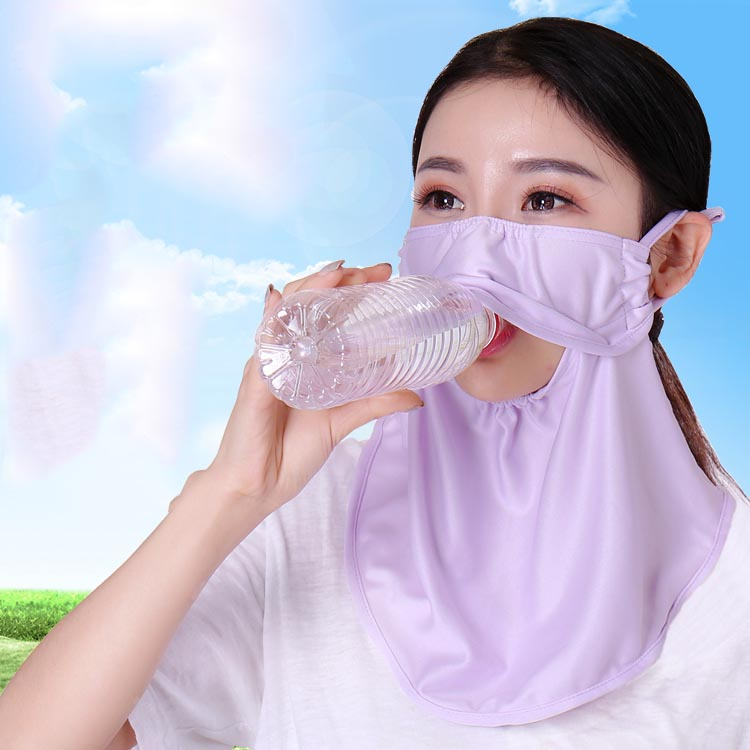face_mask: (398, 69, 645, 397)
